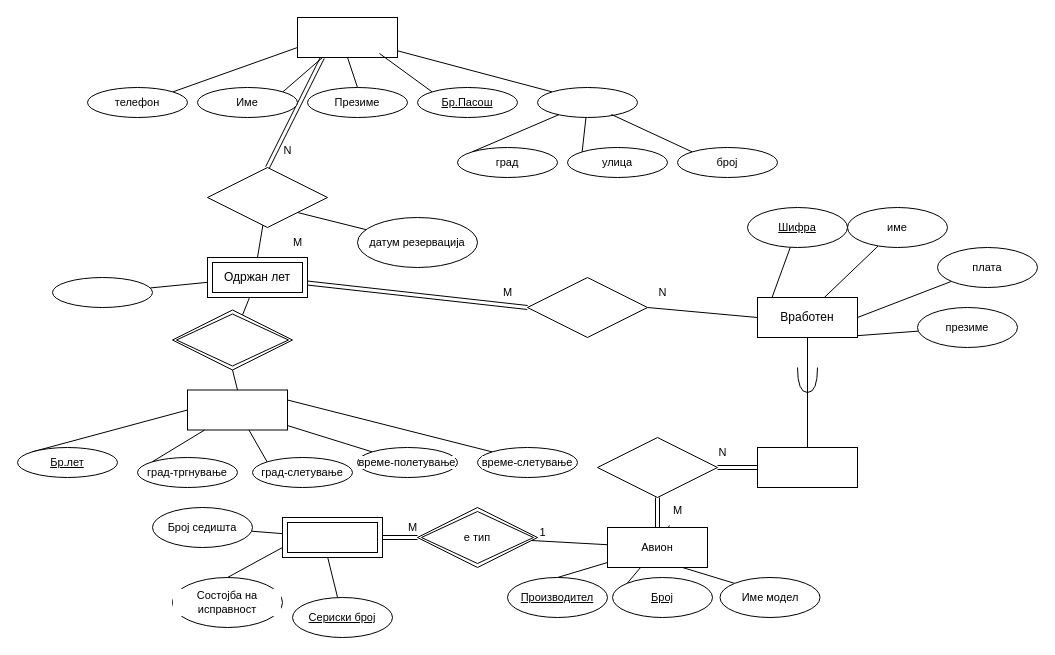
The diagram is 1055 pixels wide and 655 high, and some of its shapes have lost their labels. Here are the shapes that lost their labels. From the top down, the box of each, then its label:
(296, 16, 398, 58): Патник
(536, 86, 638, 118): адреса
(206, 166, 328, 228): лета во лет
(52, 276, 152, 308): датум
(526, 276, 648, 338): учествува на лет
(172, 309, 292, 370): е од
(186, 389, 288, 430): Лет
(596, 436, 718, 498): знае да управува со
(756, 446, 858, 488): Пилот
(282, 516, 382, 558): Авион на компанијата
